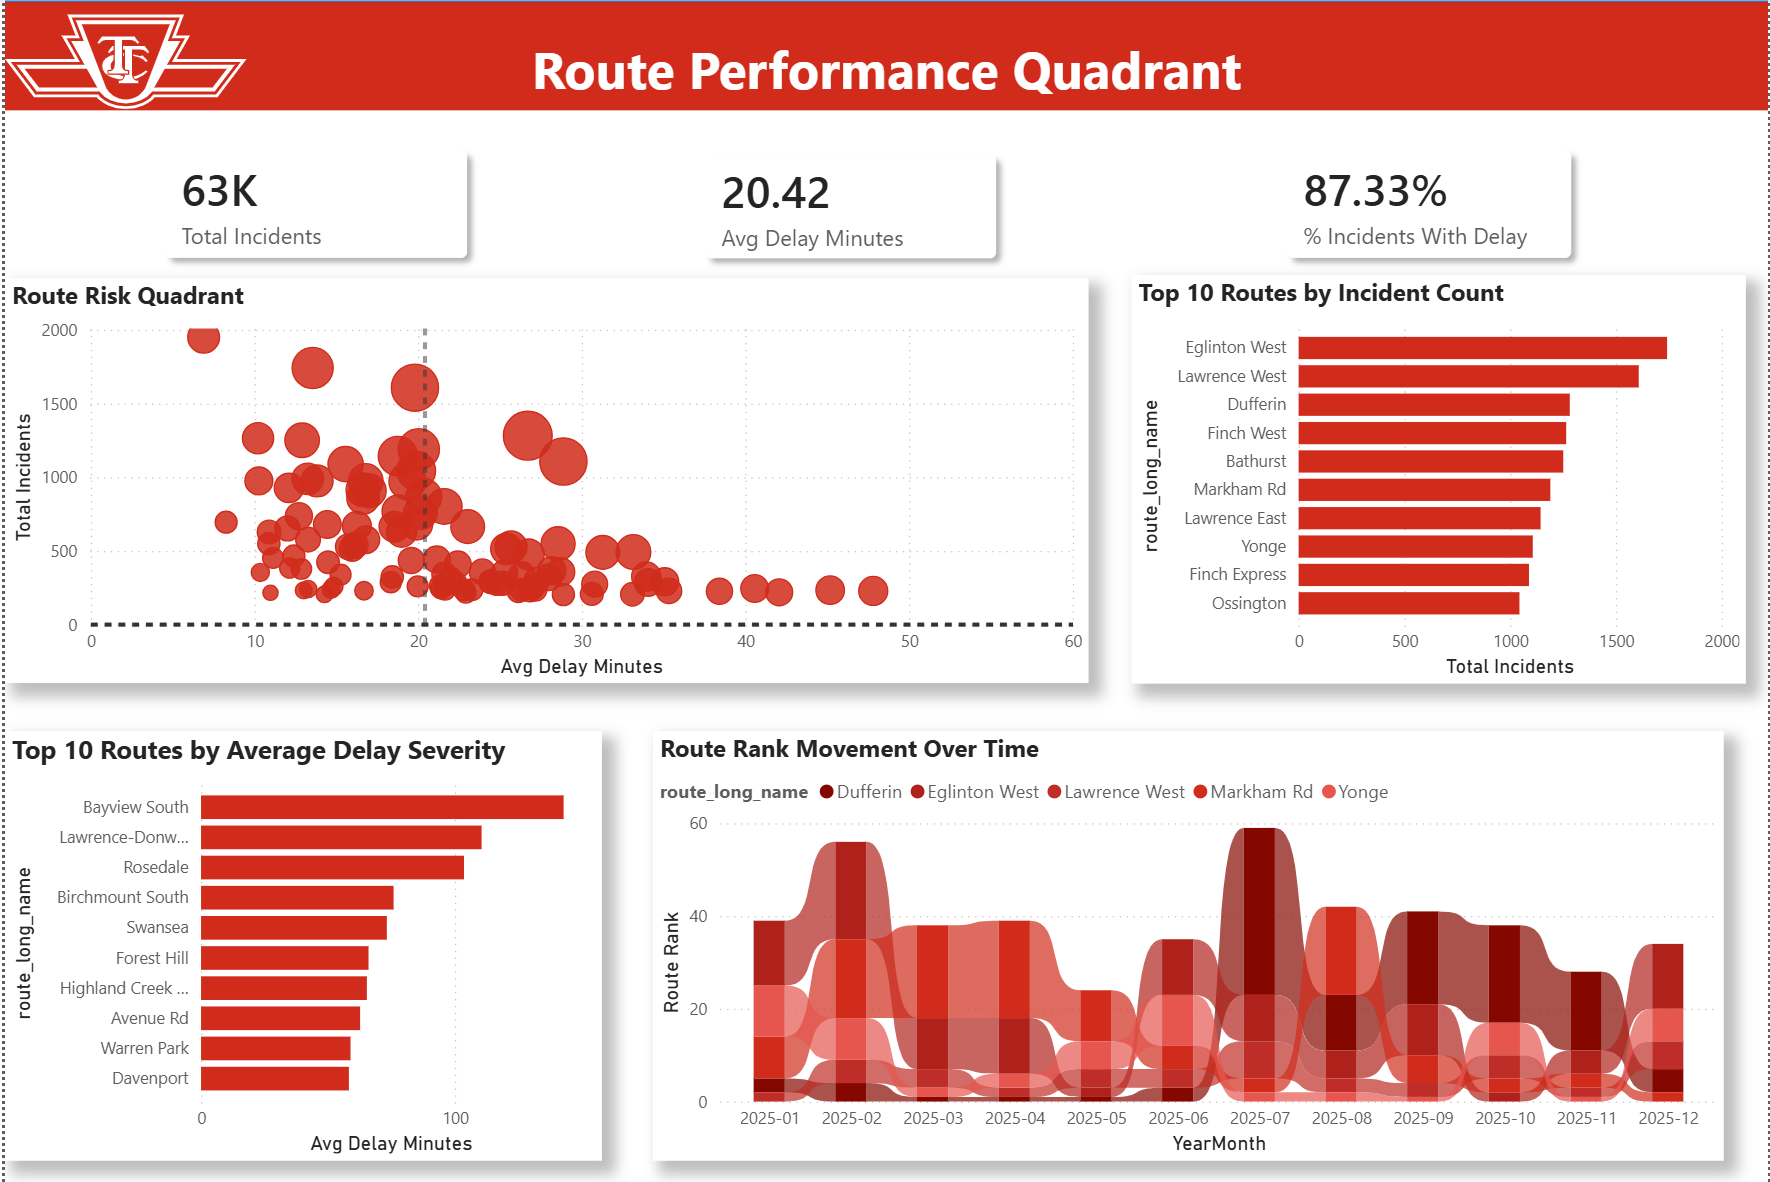

This screenshot's page, from the dashboard's own definition file:
{"tool":"powerbi","page":{"name":"Route Performance Quadrant","canvas":[1280,861],"ordinal":1},"visuals":[{"type":"cardVisual","fields":{"Data":["_Measures.Total Incidents"]},"box":[87.5,80.5,277.6,136.8],"z":0},{"type":"cardVisual","fields":{"Data":["_Measures.Avg Delay Minutes"]},"box":[478.7,83.5,269.5,133.8],"z":1000},{"type":"cardVisual","fields":{"Data":["_Measures.% Incidents With Delay"]},"box":[901.2,80.5,264.5,136.8],"z":2000},{"type":"clusteredBarChart","title":"Top 10 Routes by Incident Count","fields":{"Category":["DimRoute.route_long_name"],"Y":["_Measures.Total Incidents"]},"box":[818.1,200.5,446.1,296.6],"z":3000},{"type":"slicer","fields":{"Values":["DimDate.YearMonth"]},"box":[1006.8,14.1,130.8,53.3],"z":4000},{"type":"slicer","fields":{"Values":["DimRoute.RouteNumber"]},"box":[1149.6,19.1,130.8,53.3],"z":5000},{"type":"shape","box":[0,1,1280.3,79.5],"z":6000},{"type":"textbox","box":[0,2,1280.3,78.5],"z":7000},{"type":"image","box":[0,0,175,91.5],"z":8000},{"type":"clusteredBarChart","title":"Top 10 Routes by Average Delay Severity","fields":{"Category":["DimRoute.route_long_name"],"Y":["_Measures.Avg Delay Minutes"]},"box":[0,531.9,433.4,311.7],"z":9000},{"type":"scatterChart","title":"Route Risk Quadrant","fields":{"X":["_Measures.Avg Delay Minutes"],"Y":["_Measures.Total Incidents"],"Size":["_Measures.Total Delay Minutes"],"Category":["DimRoute.route_long_name"]},"box":[0,202.8,786.8,294.3],"z":10000},{"type":"ribbonChart","title":"Route Rank Movement Over Time","fields":{"Category":["DimDate.YearMonth"],"Series":["DimRoute.route_long_name"],"Y":["_Measures.Route Rank"]},"box":[470.4,531.9,777.5,311.7],"z":11000}]}

Visuals, with their boxes in screenshot pixels (x1, y1, x2, y2), scaled from the page's 1280x861 canvas onto the 1770x1182 screenshot:
cardVisual - _Measures.Total Incidents: (left=121, top=111, right=505, bottom=298)
cardVisual - _Measures.Avg Delay Minutes: (left=662, top=115, right=1035, bottom=298)
cardVisual - _Measures.% Incidents With Delay: (left=1246, top=111, right=1612, bottom=298)
"Top 10 Routes by Incident Count" clusteredBarChart: (left=1131, top=275, right=1748, bottom=682)
slicer - DimDate.YearMonth: (left=1392, top=19, right=1573, bottom=93)
slicer - DimRoute.RouteNumber: (left=1590, top=26, right=1769, bottom=99)
shape: (left=0, top=1, right=1769, bottom=111)
textbox: (left=0, top=3, right=1769, bottom=111)
image: (left=0, top=0, right=242, bottom=126)
"Top 10 Routes by Average Delay Severity" clusteredBarChart: (left=0, top=730, right=599, bottom=1158)
"Route Risk Quadrant" scatterChart: (left=0, top=278, right=1088, bottom=682)
"Route Rank Movement Over Time" ribbonChart: (left=650, top=730, right=1726, bottom=1158)
